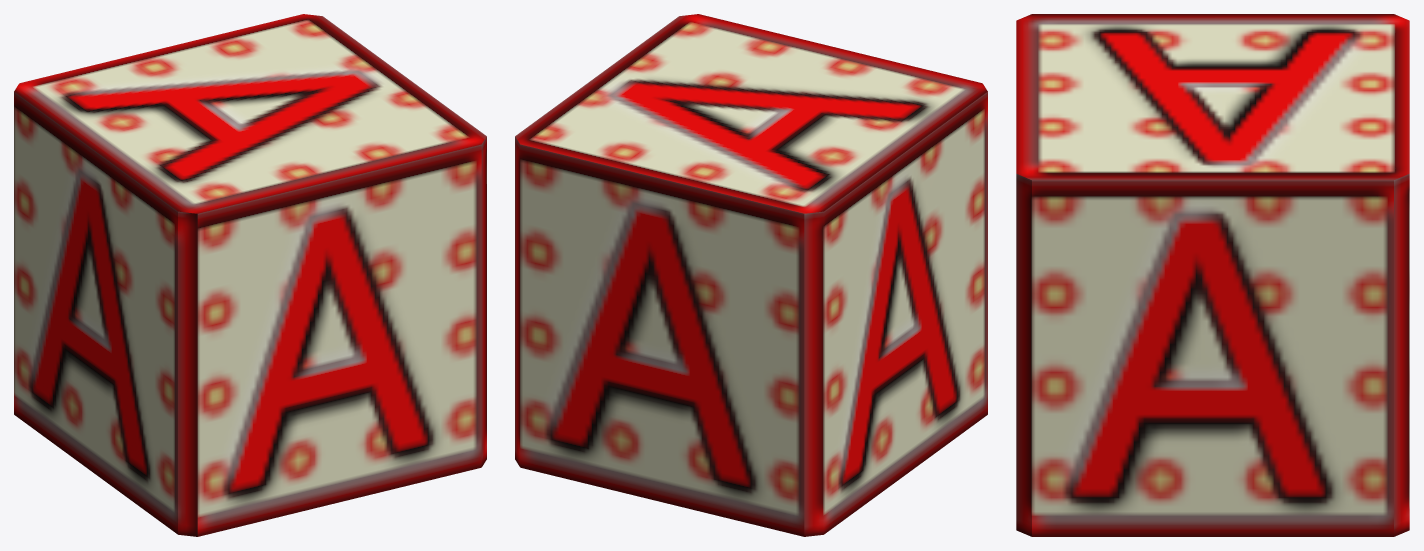
Rendered from Block_A.FBX.
3 views of the same model, side by side, from view 1: azimuth 30°, elevation 25°; view 2: azimuth 150°, elevation 25°; view 3: azimuth 270°, elevation 25° (orthographic). The views are drawn at different scales.
Parts seen in each view (by area): view 1: Block; view 2: Block; view 3: Block.
Part boxes in pixels (left/top/right/bottom): Block: left=14, top=14, right=486, bottom=536; Block: left=515, top=14, right=987, bottom=536; Block: left=1016, top=14, right=1409, bottom=536.
Bounding box in the file's own units: 25 × 25 × 25.
